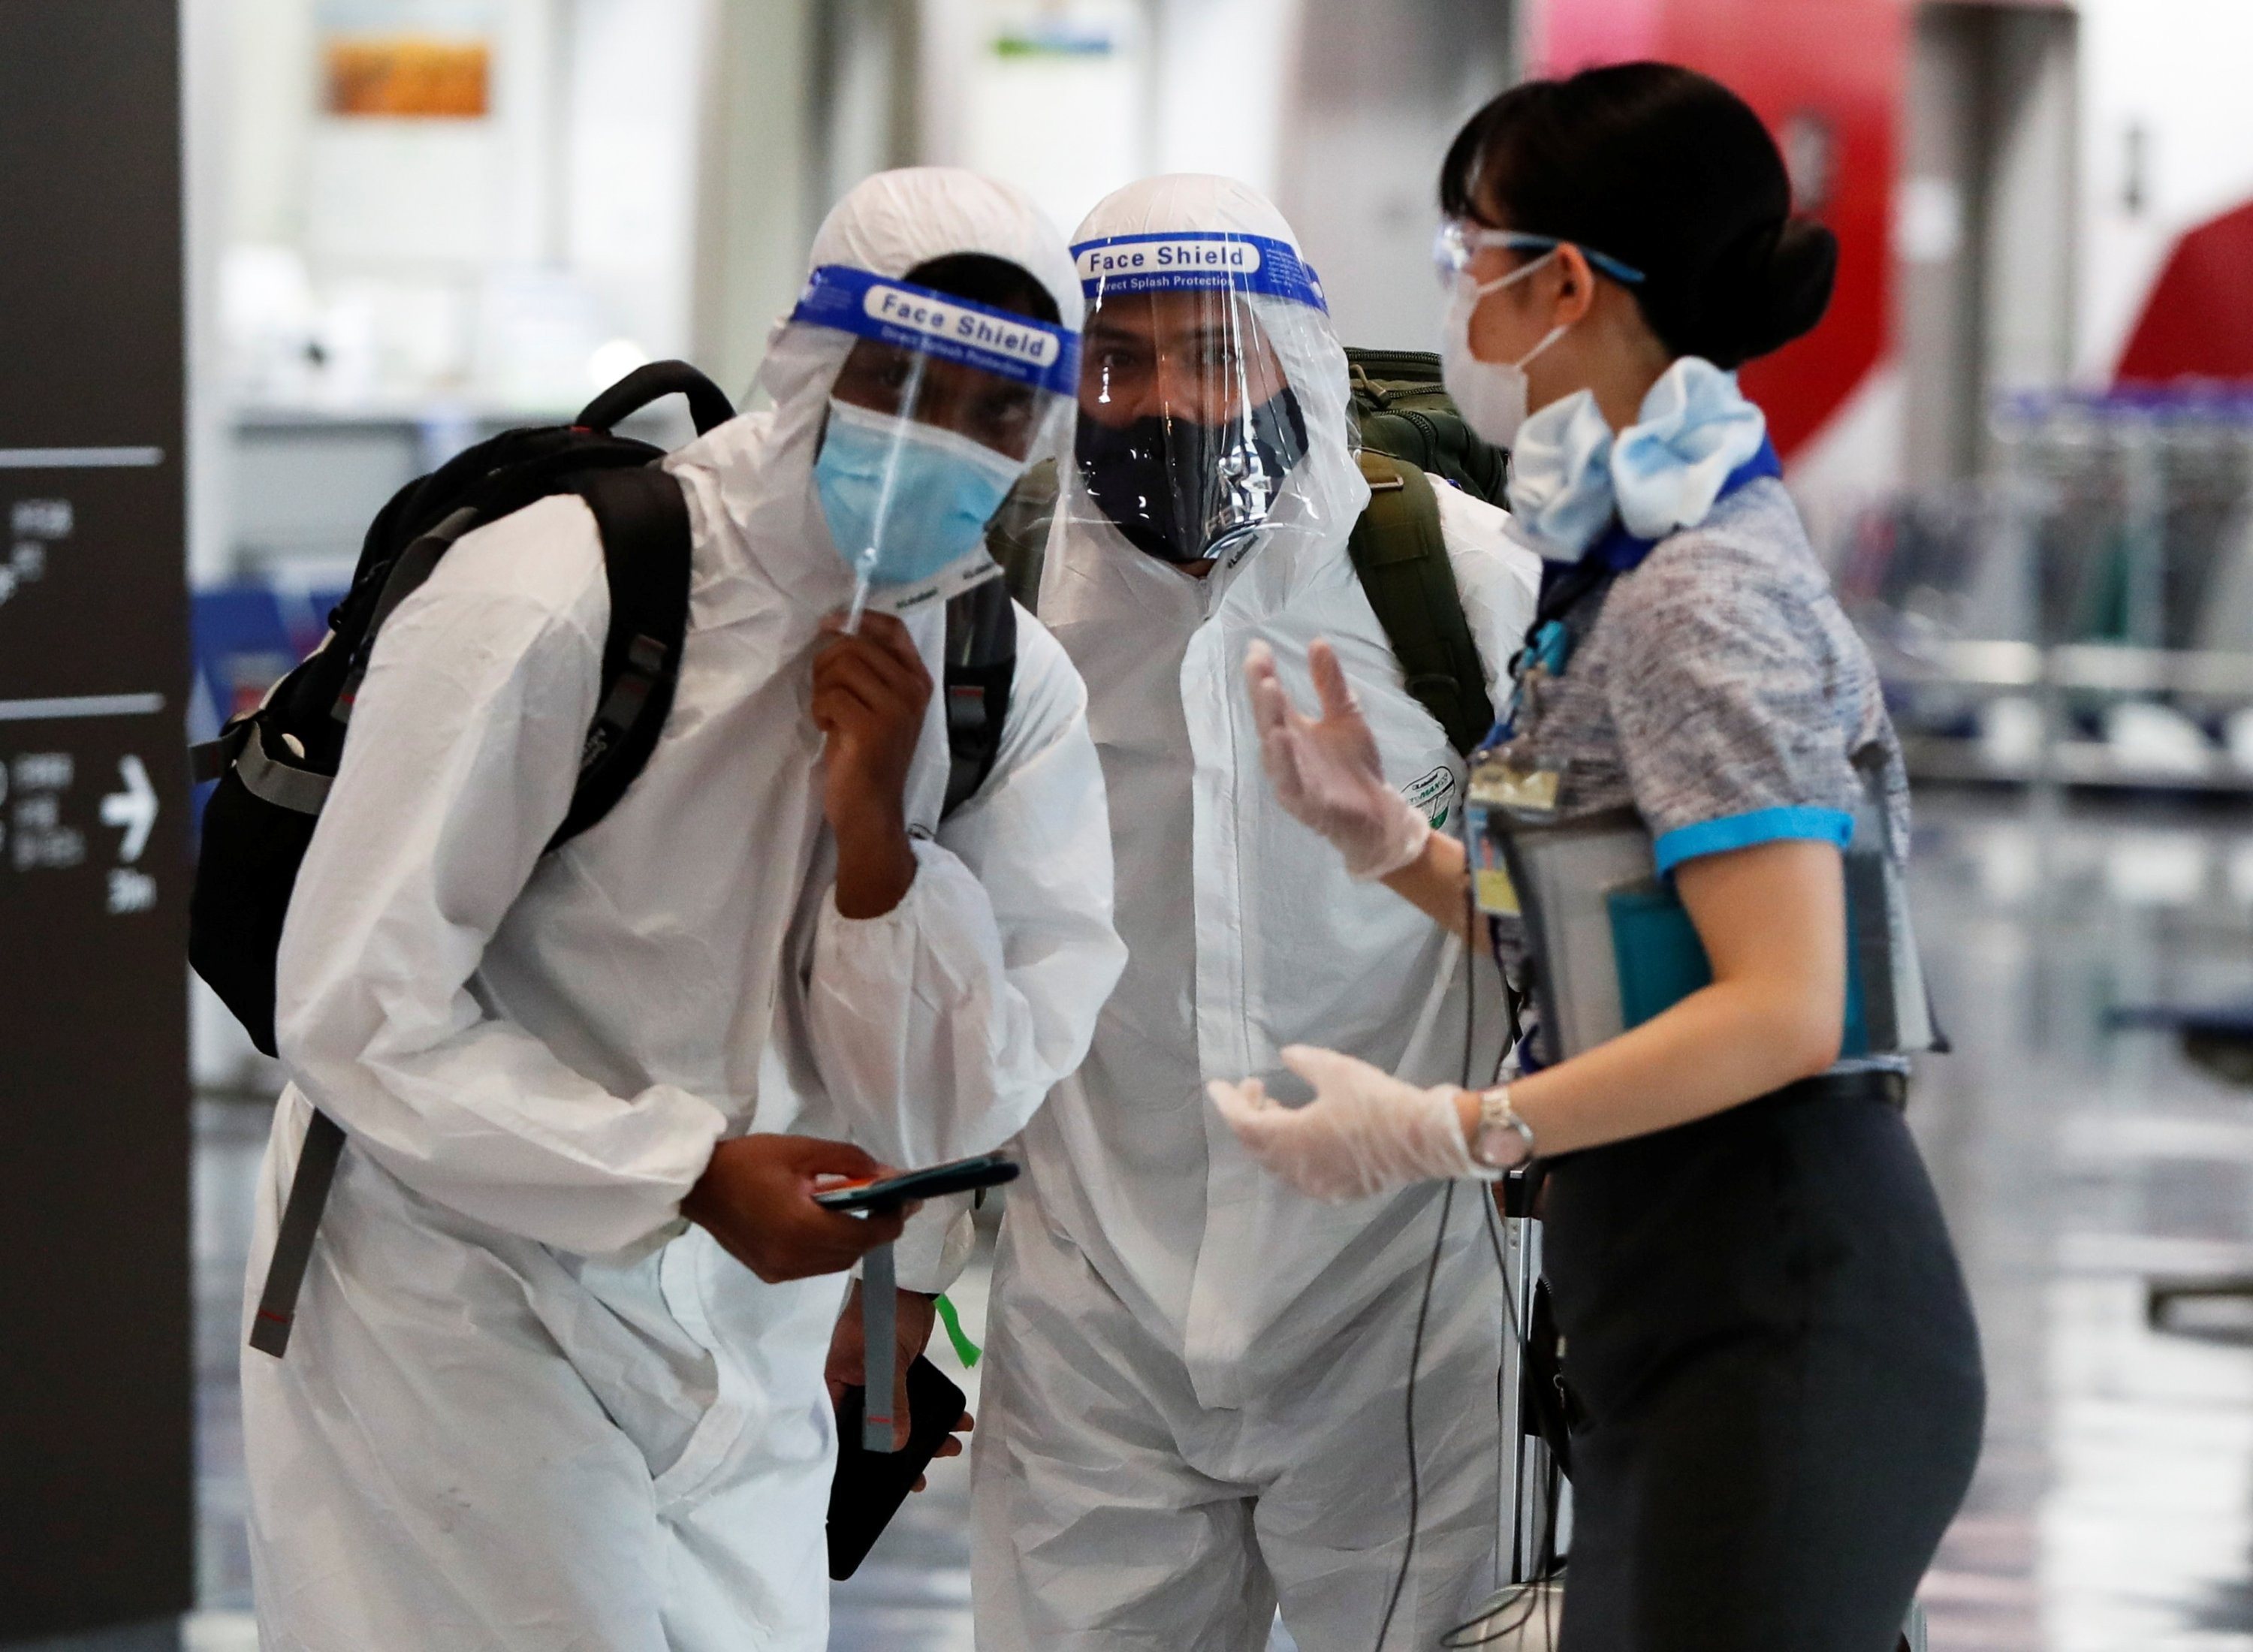Coverall: (242, 176, 1133, 1652), (947, 174, 1570, 1652)
Face_Shield: (772, 259, 1084, 619), (1048, 228, 1341, 576)
Gloves: (1240, 627, 1441, 898), (1206, 1039, 1521, 1210)
Goggles: (1422, 206, 1645, 285)
with_mask: (1075, 324, 1310, 576), (819, 353, 1024, 586), (1434, 240, 1564, 450)
